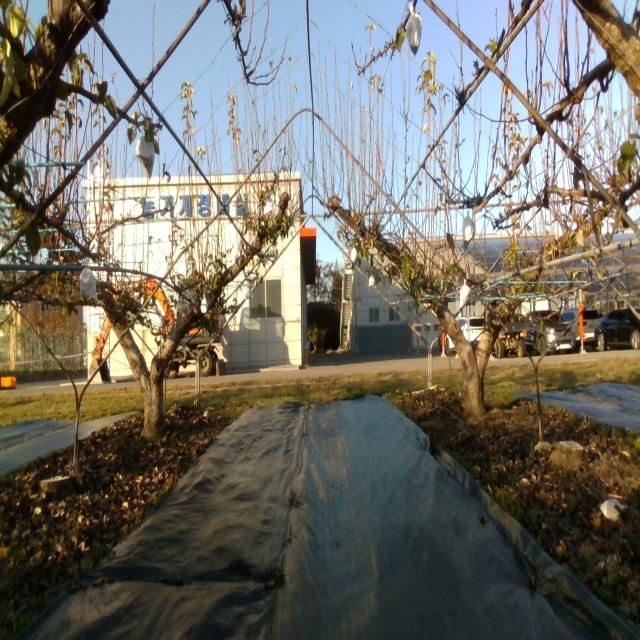pearbags: (406, 4, 422, 57), (136, 136, 155, 180), (78, 265, 97, 304), (462, 210, 476, 251), (459, 279, 471, 310)
